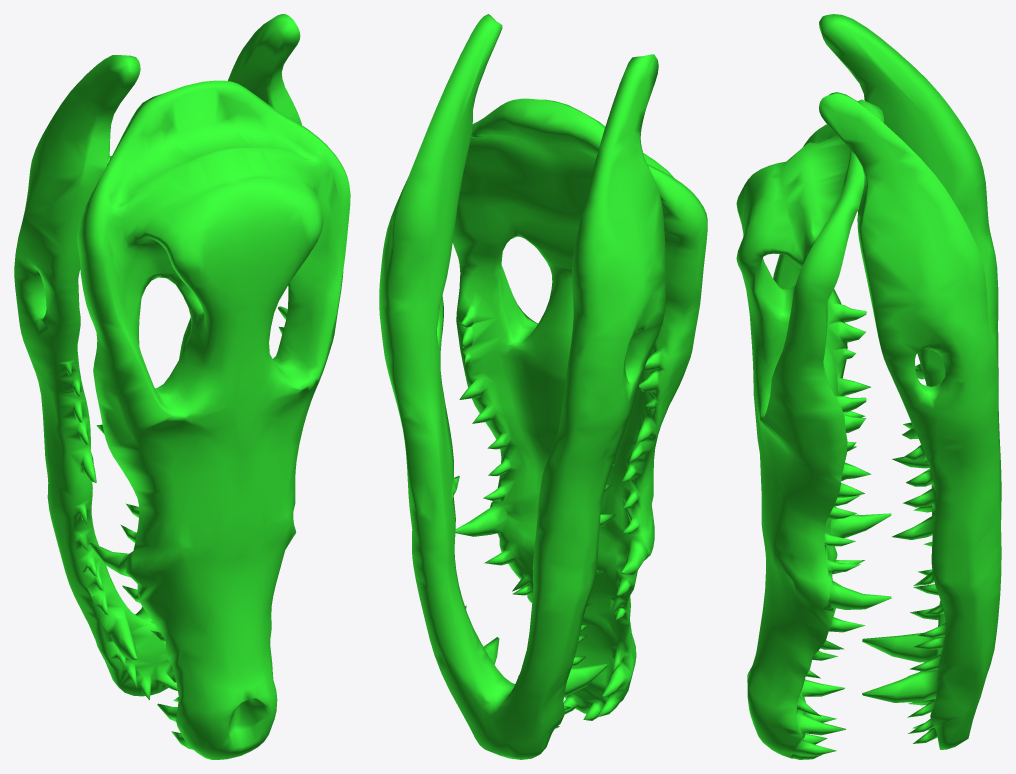
The model's file is Crocodileskull.obj.
3 renders of one model, left to right at view 1: azimuth 30°, elevation 25°; view 2: azimuth 150°, elevation 25°; view 3: azimuth 270°, elevation 25°, orthographic. The views are drawn at different scales.
Parts seen in each view (by area): view 1: Crocodileskull; view 2: Crocodileskull; view 3: Crocodileskull.
Boxes of the visible parts, left/top/right/bottom form: Crocodileskull: left=14, top=14, right=350, bottom=759; Crocodileskull: left=379, top=14, right=707, bottom=759; Crocodileskull: left=736, top=14, right=1001, bottom=759.
Bounding box in the file's own units: 0.3902 × 1 × 0.3442.
